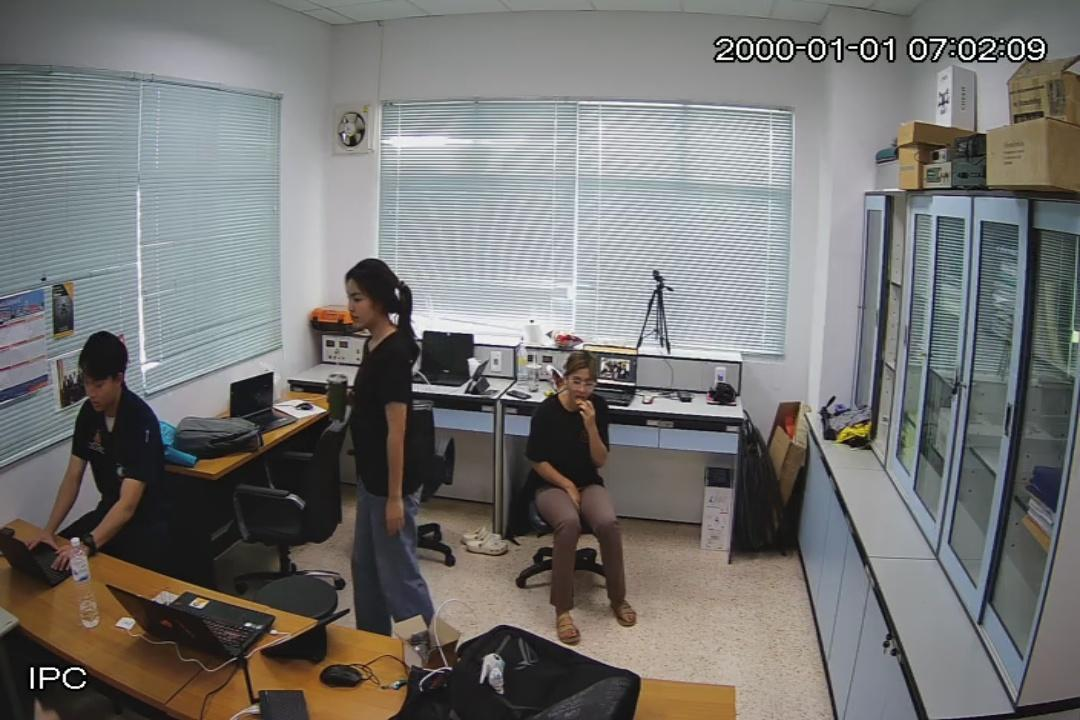normal: (327, 257, 440, 648), (31, 330, 174, 574), (520, 346, 635, 637)
